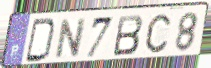7: (85, 16, 115, 59)
8: (174, 10, 200, 53)
B: (111, 14, 144, 58)
C: (145, 12, 172, 54)
D: (24, 18, 58, 63)
N: (53, 17, 88, 60)
